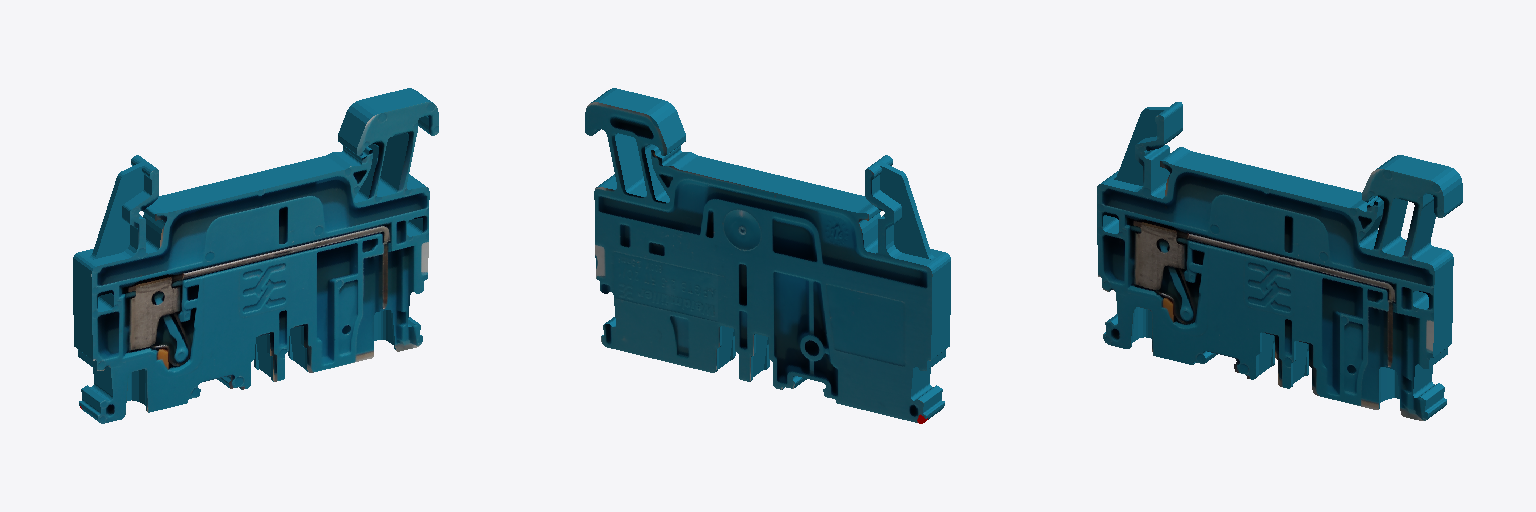
3 views of the same model, side by side, from view 1: azimuth 30°, elevation 25°; view 2: azimuth 150°, elevation 25°; view 3: azimuth 330°, elevation 25° (orthographic).
Visible parts, largest first — view 1: [number redacted]_[number redacted].007; view 2: [number redacted]_[number redacted].007; view 3: [number redacted]_[number redacted].007.
Boxes of the visible parts, x1,y1,x2,y2 form: [number redacted]_[number redacted].007: [73, 88, 438, 423]; [number redacted]_[number redacted].007: [585, 88, 950, 423]; [number redacted]_[number redacted].007: [1097, 102, 1462, 420].
Bounding box in the file's own units: 0.0542 × 0.0362 × 0.0051.
1 materials, 1 textured.